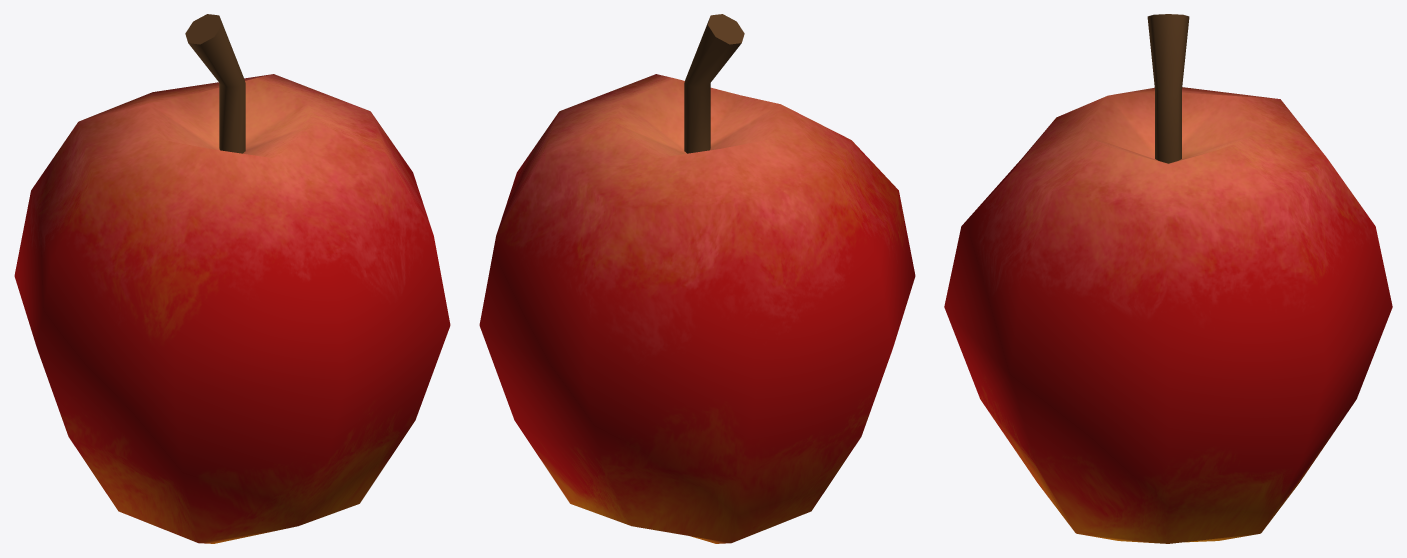
File: apple.fbx
3 views of the same model, side by side, from view 1: azimuth 30°, elevation 25°; view 2: azimuth 150°, elevation 25°; view 3: azimuth 270°, elevation 25° (orthographic).
Parts seen in each view (by area): view 1: Apple_01; view 2: Apple_01; view 3: Apple_01.
Boxes of the visible parts, x1=… form: Apple_01: x1=14, y1=14, x2=450, y2=543; Apple_01: x1=479, y1=14, x2=915, y2=543; Apple_01: x1=944, y1=14, x2=1392, y2=543.
Bounding box in the file's own units: 0.5671 × 0.6969 × 0.5671.
1 material, 1 textured.
